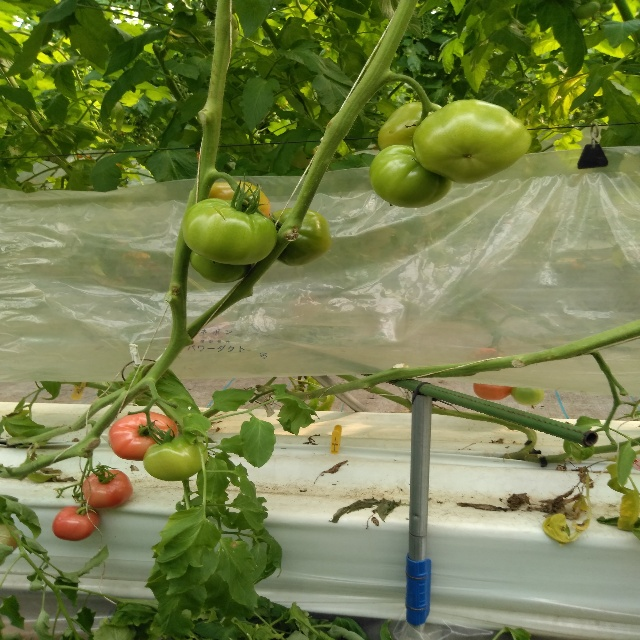b_fully_ripened: (52, 505, 100, 541)
b_green: (412, 99, 533, 185), (182, 198, 279, 265), (369, 145, 453, 208), (269, 207, 331, 267), (377, 101, 442, 151), (143, 435, 209, 482), (189, 249, 255, 284), (510, 387, 545, 406)
b_half_ripened: (108, 411, 179, 461), (207, 181, 271, 219), (82, 469, 133, 509), (473, 383, 514, 400)
